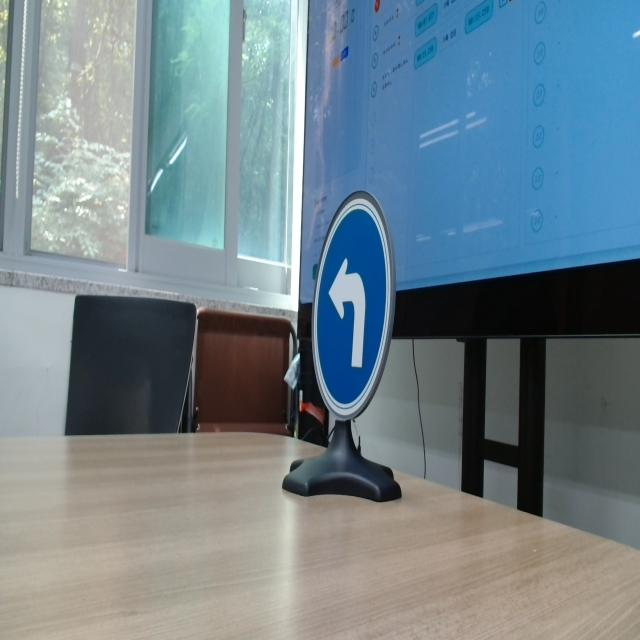left_direction: (302, 182, 401, 424)
